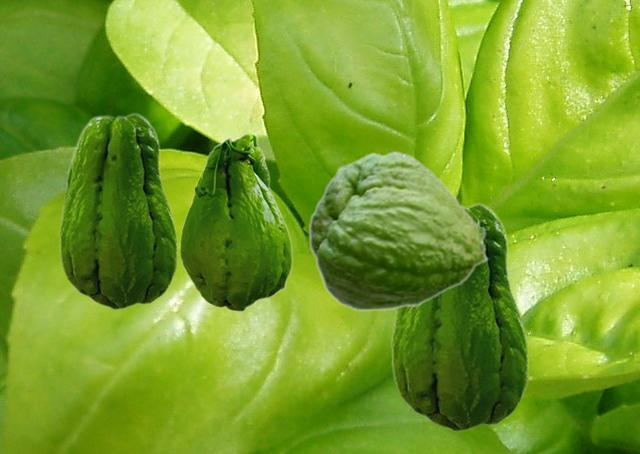sayote: (391, 202, 528, 431), (308, 150, 489, 311), (59, 112, 177, 309), (179, 132, 292, 311)
